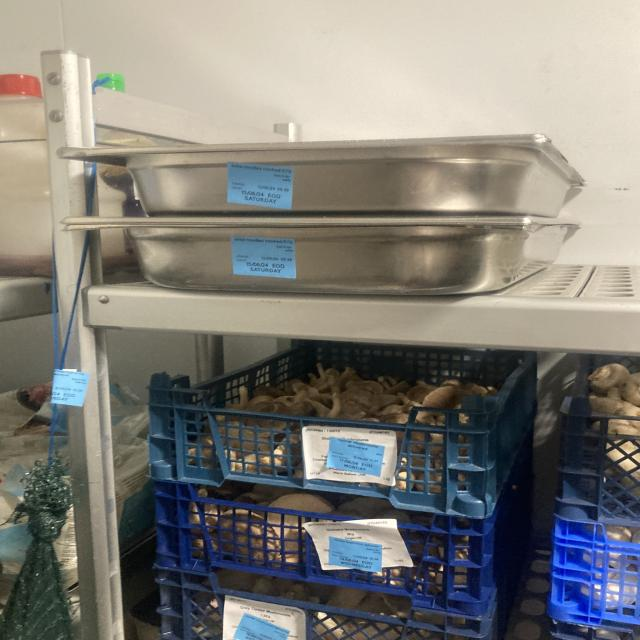product-labels: (224, 161, 295, 210), (229, 236, 298, 278), (325, 437, 386, 478), (325, 536, 385, 573), (50, 369, 90, 408), (234, 613, 290, 640)
